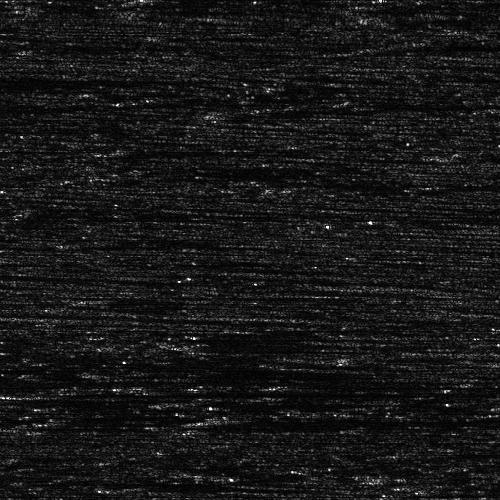object: (0, 420, 74, 433), (149, 400, 232, 407), (23, 386, 64, 397), (82, 148, 135, 155)
shadow: (0, 377, 359, 386), (44, 386, 215, 397), (0, 77, 145, 86), (109, 148, 279, 155), (27, 420, 115, 433), (191, 400, 279, 407), (212, 420, 303, 423)
